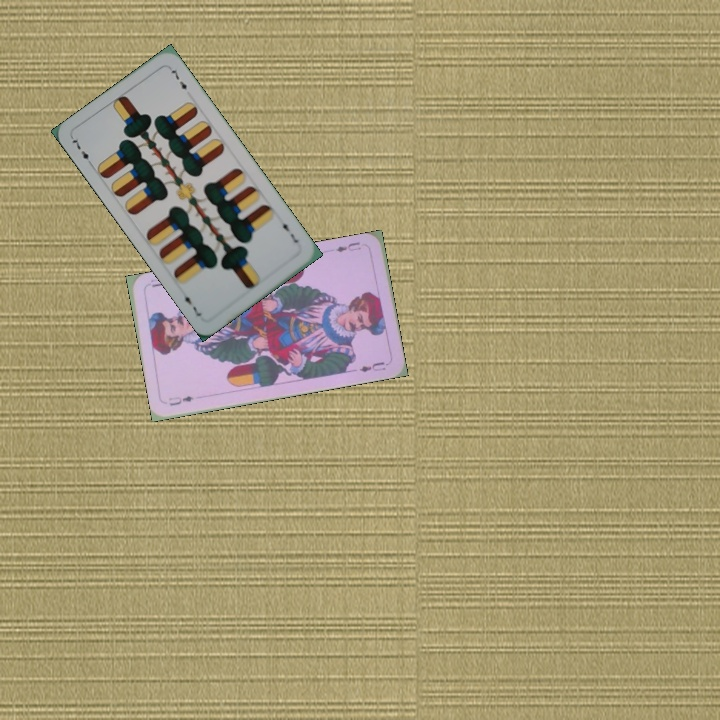E7: (67, 133, 96, 169), (277, 215, 301, 246)
EU: (164, 392, 196, 409), (332, 238, 363, 254)
